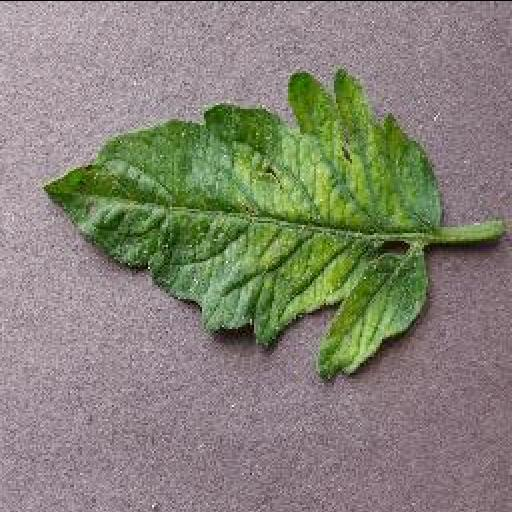Mosaic Virus: (38, 68, 440, 386)
